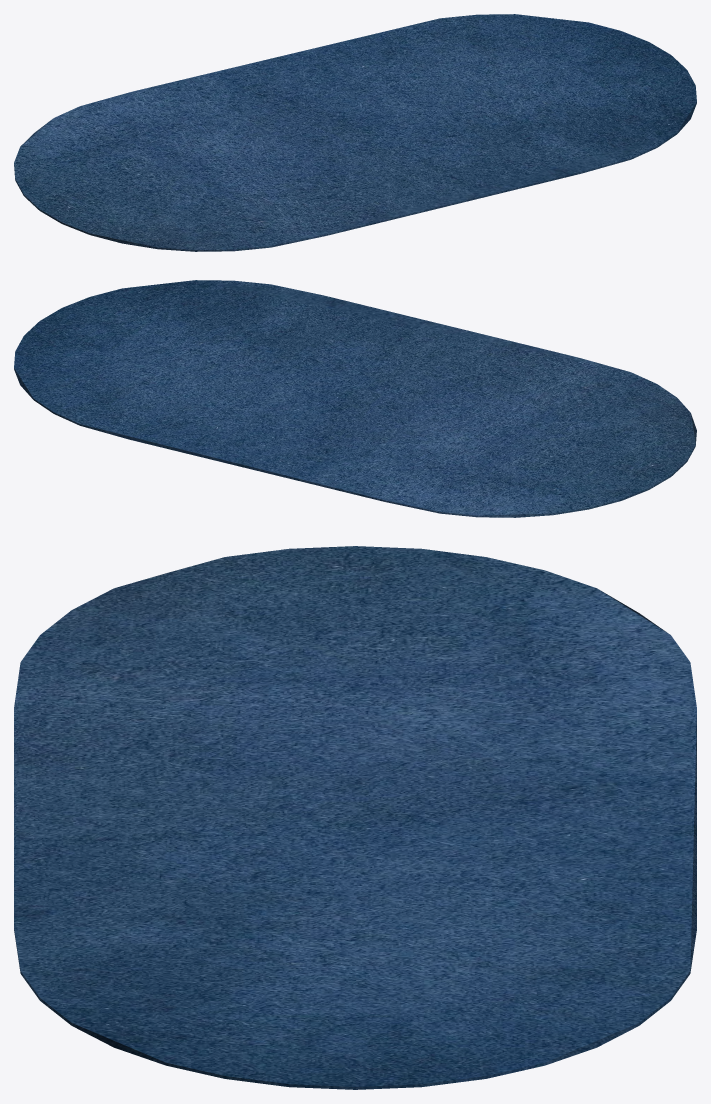
3 renders of one model, top to bottom at view 1: azimuth 30°, elevation 25°; view 2: azimuth 150°, elevation 25°; view 3: azimuth 270°, elevation 25°, orthographic. The views are drawn at different scales.
Visible parts, largest first — view 1: carpet; view 2: carpet; view 3: carpet.
Boxes of the visible parts, <box> form: carpet: <box>14,14,696,251</box>; carpet: <box>14,280,696,517</box>; carpet: <box>14,546,696,1089</box>.
Bounding box in the file's own units: 230278 × 590 × 122887.
Materials: 1 (1 with a texture image).
